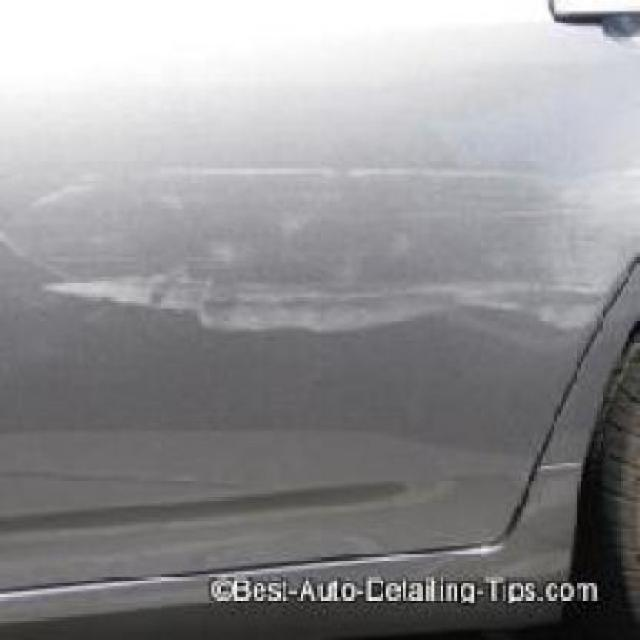dent-or-scratch: (31, 169, 604, 348)
